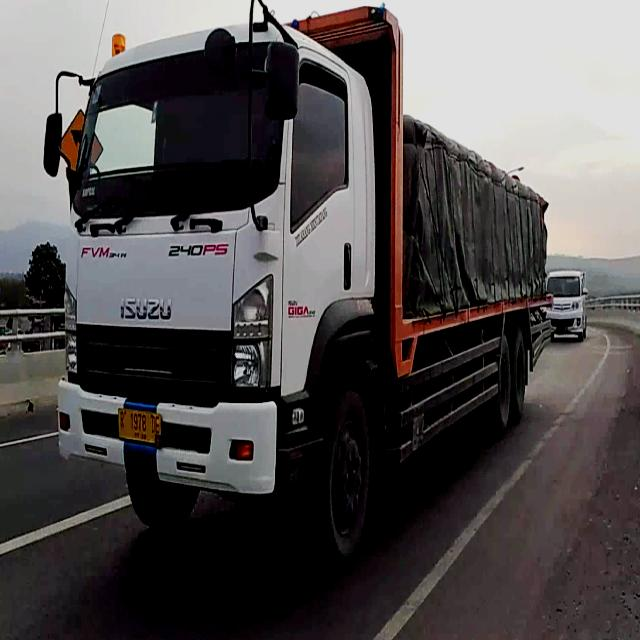truck: (45, 5, 548, 563)
